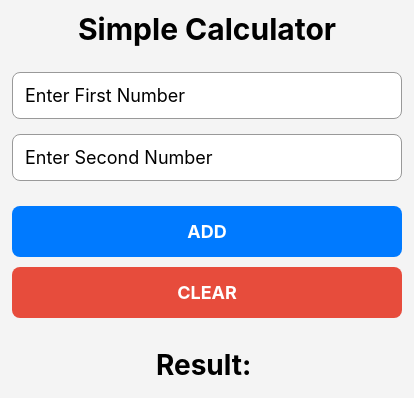
it: Simple Calculator Integration Test › adds zero correctly
This screenshot has width=414, height=398.
Type "0" into the field with test id "input1" at (207, 95), box [12,72,402,118]
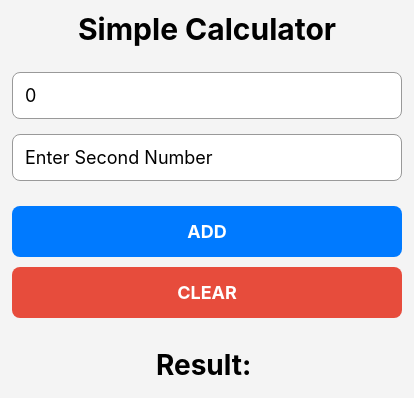
Type "5" into the field with test id "input2" at (207, 157), box [12,134,402,180]
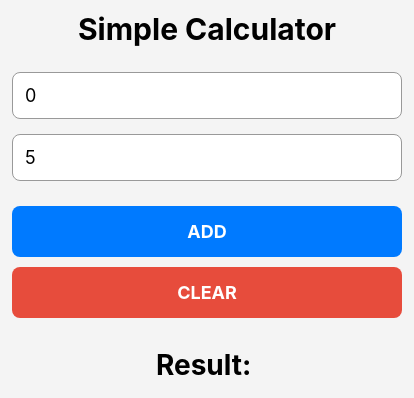
Click the element with test id "addButton" at (207, 231), box [12,206,402,256]
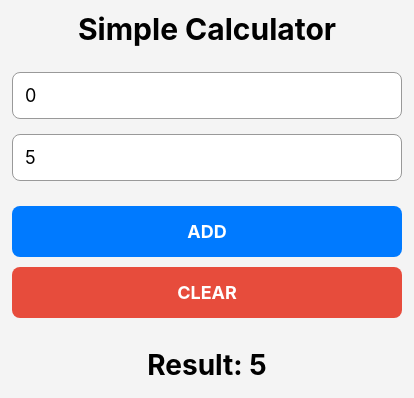
Now the text with test id "resultText" reads "Result: 5", box [147,348,267,382]
